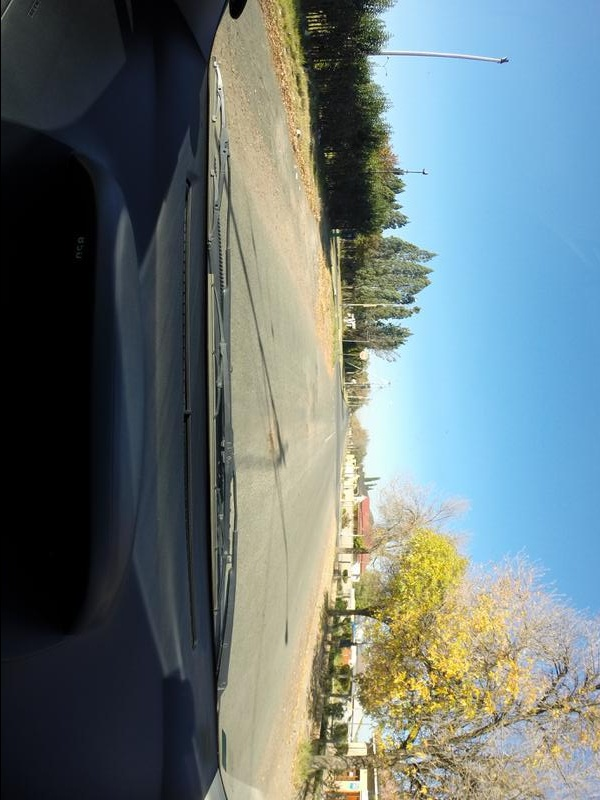pothole: (259, 422, 282, 470)
